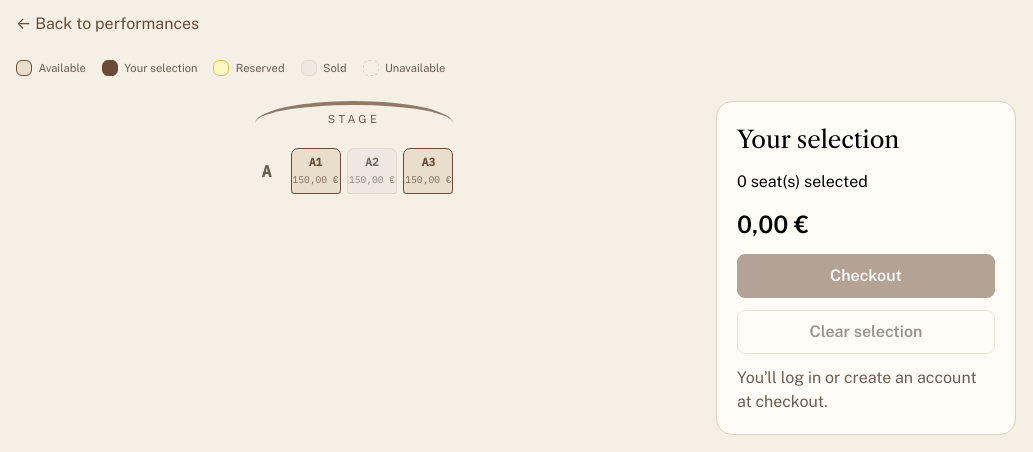
Test: SeatSelectionScreen › as a guest › picks and unpicks seats locally, without reserving anything
What coordinates should you click on to do the following:
click the button named "Seat A1"
I would click on:
 (316, 171)
Its box is [291,148,341,194].
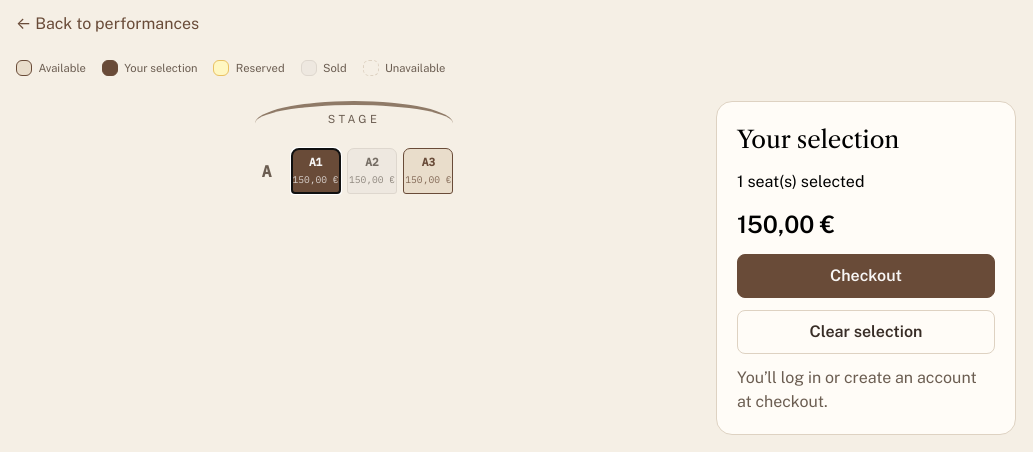
Now the text "1 seat(s) selected" is shown, box [737,172,864,191]
Now the text "150,00 €" below "seat(s) selected" is shown, box [737,210,835,238]
What coordinates should you click on to do the following:
click the button named "Seat A1"
I would click on:
 (316, 171)
Its box is [291,148,341,194].
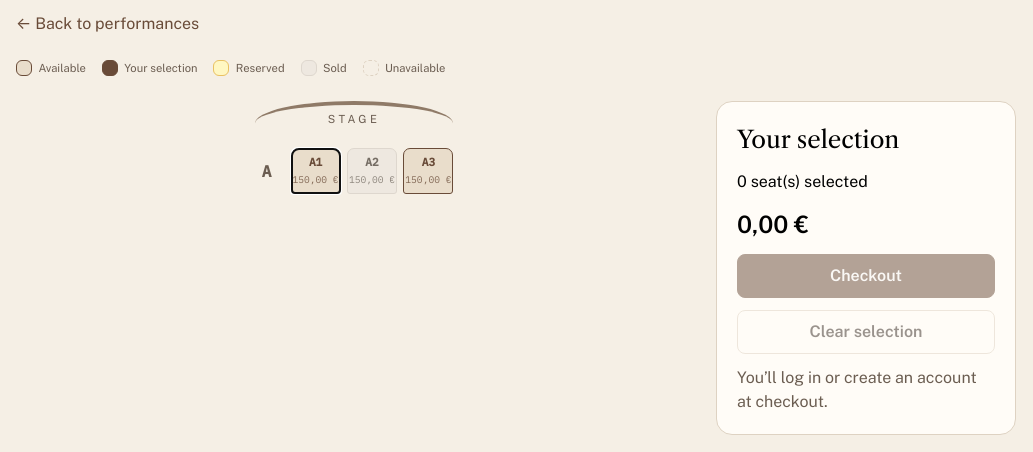
Expected: the text "You’ll log in or create an account at checkout." is shown, [737,366,995,414]
Now the text "0 seat(s) selected" is shown, box [737,172,868,191]
